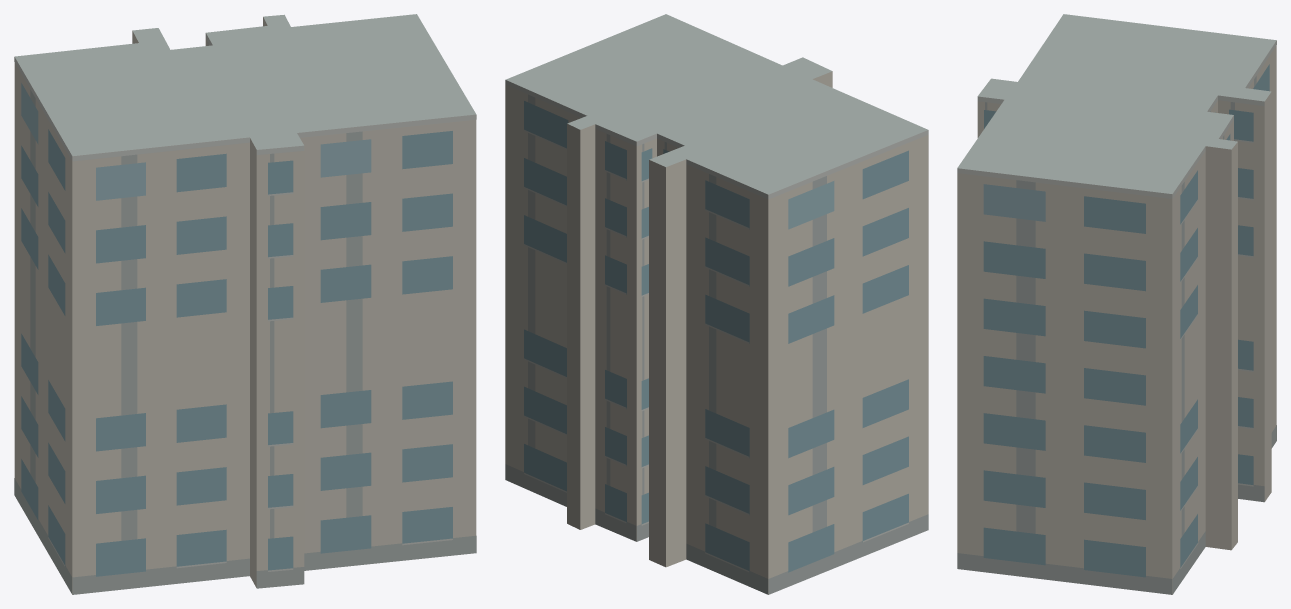
The model's file is survey-upis-32872005.glb.
3 views of the same model, side by side, from view 1: azimuth 30°, elevation 25°; view 2: azimuth 150°, elevation 25°; view 3: azimuth 270°, elevation 25° (orthographic). The views are drawn at different scales.
Visible parts, largest first — view 1: survey-upis-32872005.tmp; view 2: survey-upis-32872005.tmp; view 3: survey-upis-32872005.tmp.
Part boxes in pixels (x1,y1,x2,y2): survey-upis-32872005.tmp: (14,14,476,594); survey-upis-32872005.tmp: (505,14,928,594); survey-upis-32872005.tmp: (957,14,1276,594).
Size of the model in its own units: 19.77 by 20.5 by 14.83.
